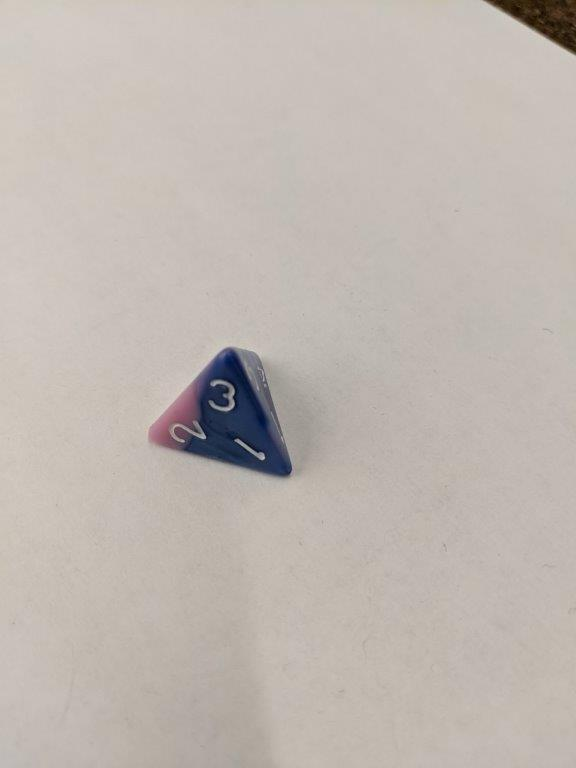d4-3: (145, 345, 296, 481)
